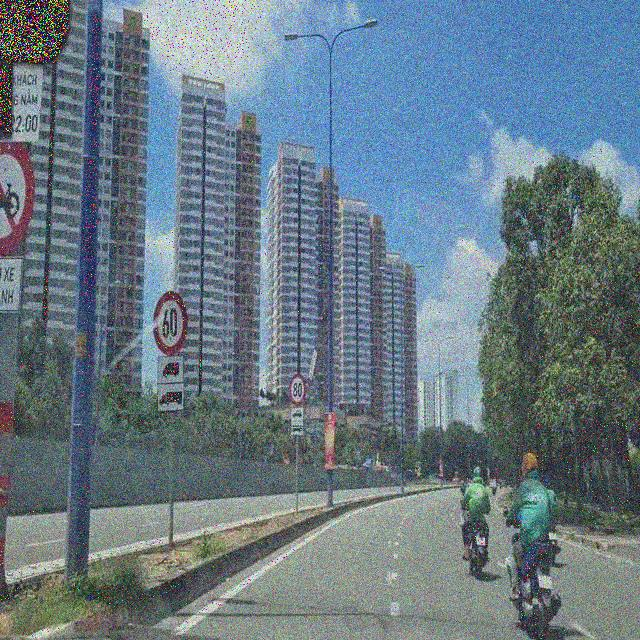Biển phụ: (150, 353, 183, 412), (290, 406, 303, 435)
Cấm xe máy: (0, 143, 43, 264)
Giới hạn tốc độ 60Km/h: (151, 284, 188, 354)
Giới hạn tốc độ 80Km/h: (288, 367, 304, 407)
